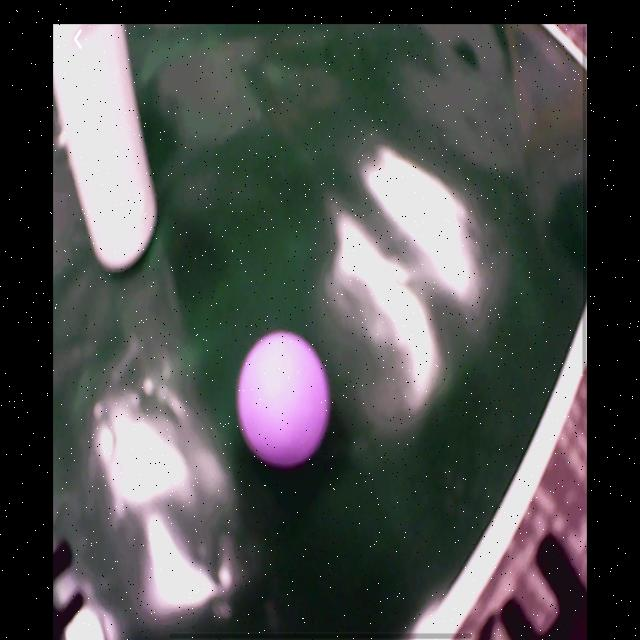ball: (238, 333, 329, 465)
